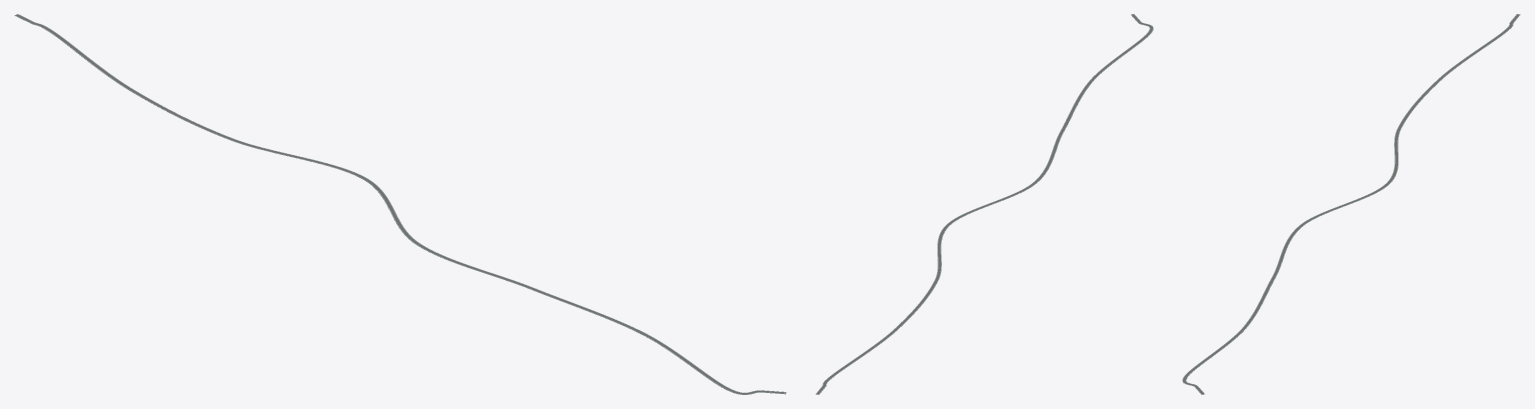
File: road_roam_cross_harbour.glb
The picture shows the model from 3 angles, left to right: view 1: azimuth 30°, elevation 25°; view 2: azimuth 150°, elevation 25°; view 3: azimuth 330°, elevation 25°; orthographic projection. The views are drawn at different scales.
Parts seen in each view (by area): view 1: road; view 2: road; view 3: road.
Part boxes in pixels (x1=…): road: x1=14, y1=14, x2=786, y2=394; road: x1=815, y1=14, x2=1153, y2=394; road: x1=1182, y1=14, x2=1520, y2=394.
Bounding box in the file's own units: 530 × 0.32 × 2762.
